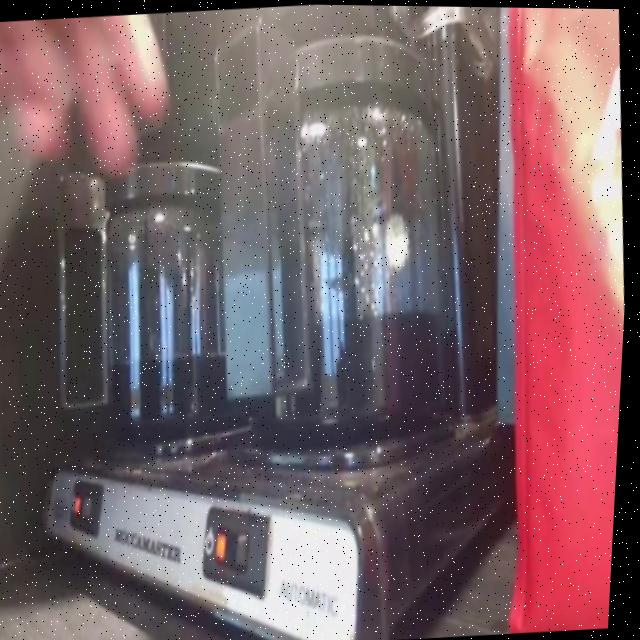coffee: (210, 10, 487, 458), (63, 126, 284, 472)
